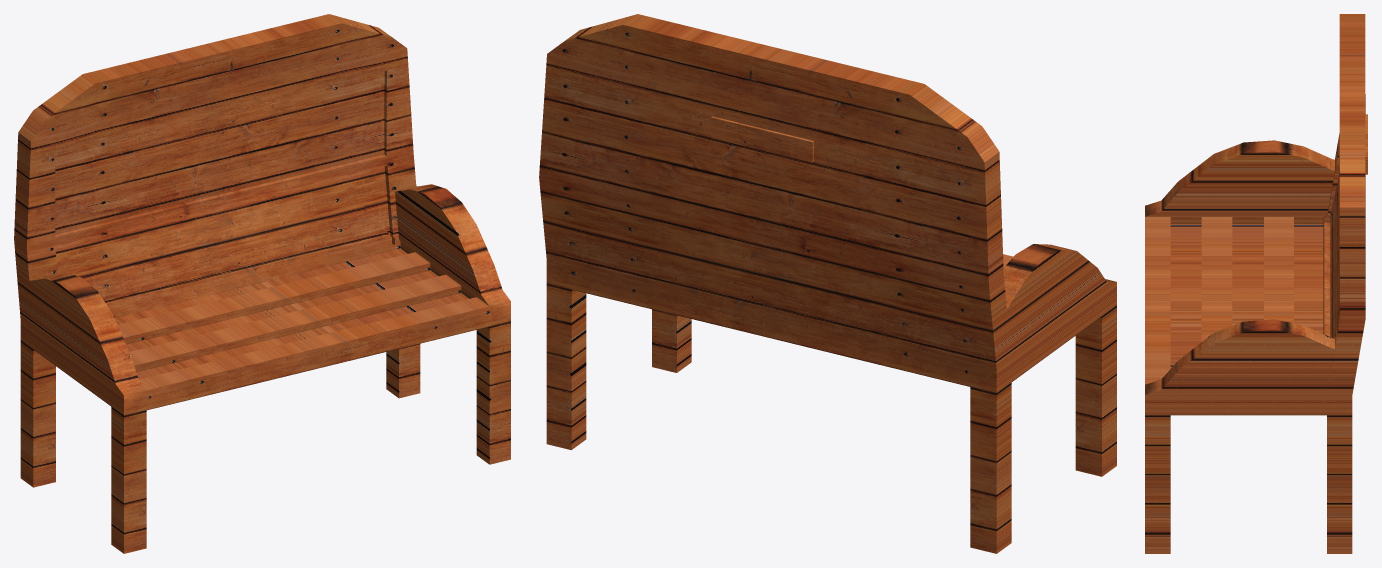
The model's file is bench.fbx.
The picture shows the model from 3 angles, left to right: view 1: azimuth 30°, elevation 25°; view 2: azimuth 150°, elevation 25°; view 3: azimuth 270°, elevation 25°; orthographic projection. The views are drawn at different scales.
Parts seen in each view (by area): view 1: pCube2; view 2: pCube2; view 3: pCube2.
Part boxes in pixels (x1,y1,x2,y2): pCube2: [14, 14, 510, 553]; pCube2: [539, 14, 1116, 553]; pCube2: [1145, 14, 1367, 553].
Bounding box in the file's own units: 15.45 × 14.61 × 7.69.
